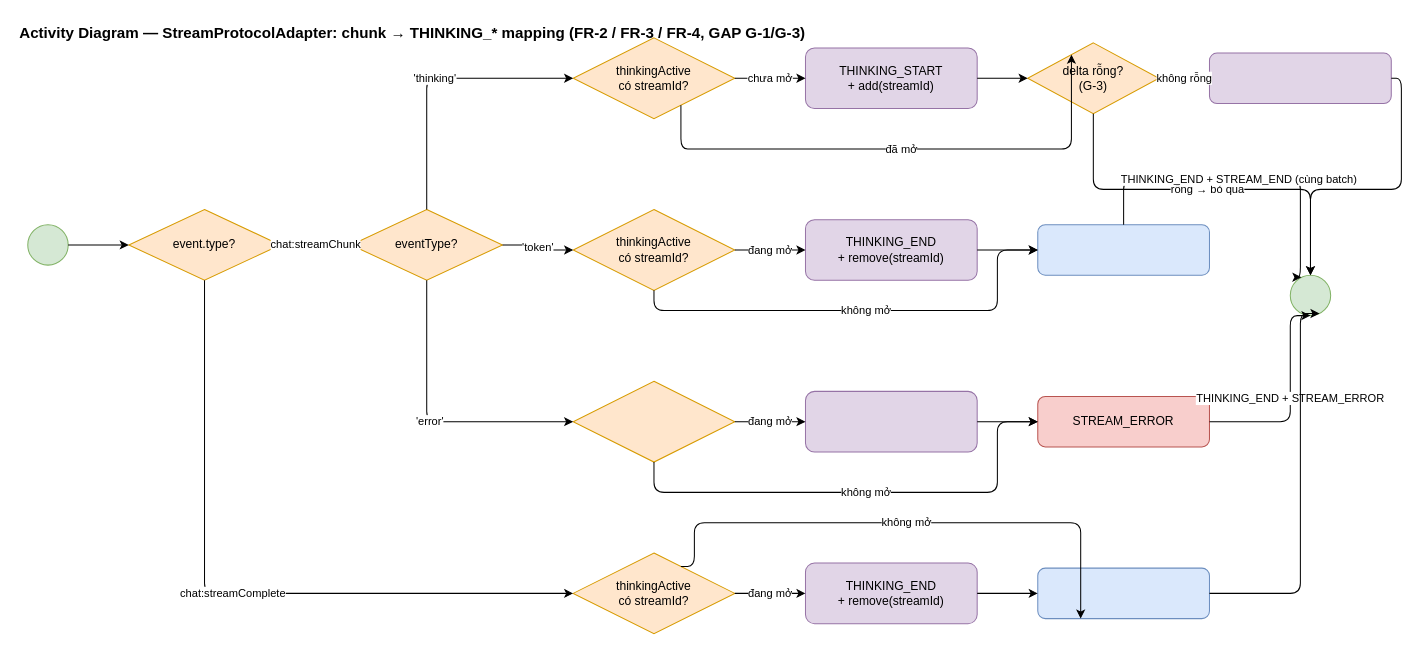
Image size: 1427x651. Some labels were removed from this diagram. The centre of each missing label's shape, as x and y in pixels:
cleanup(streamId) + STREAM_END: the point at 1123,593
STREAM_TOKEN(token): the point at 1123,249
THINKING_END + remove (fix G-1 — bắt buộc): the point at 890,421
THINKING_TOKEN(token): the point at 1299,78
thinkingActive? (G-1): the point at 653,421
